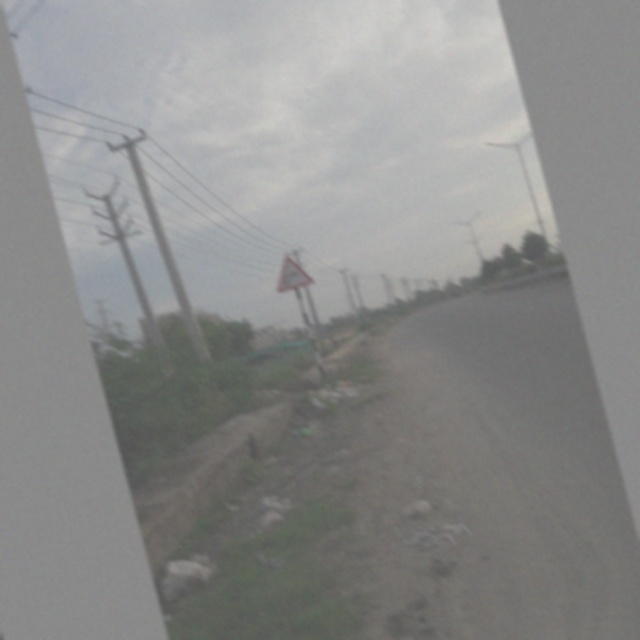Right_Hand_Curve: (269, 248, 317, 299)
